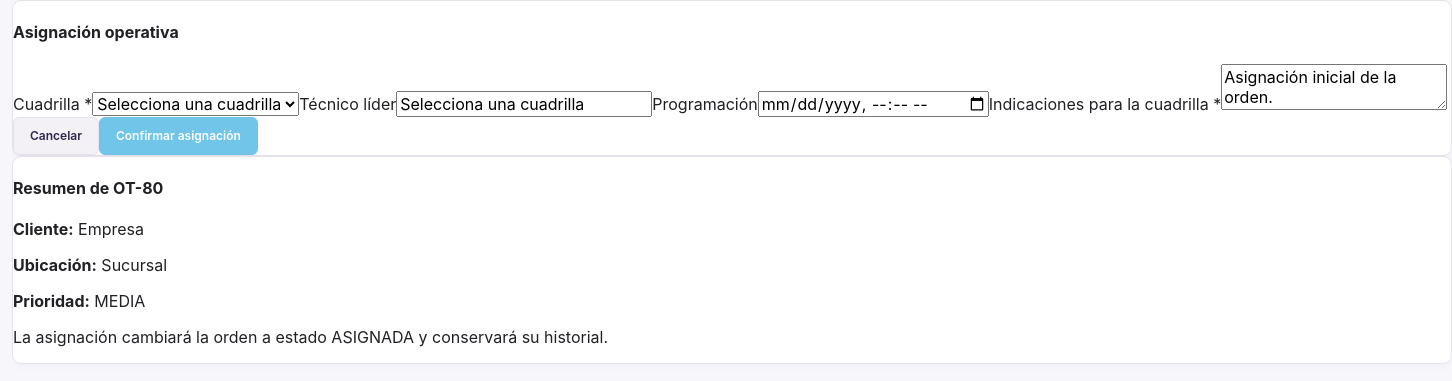
Test: Asignación visual de órdenes según Figma › muestra líder técnico real al seleccionar cuadrilla
The width and height of the screenshot is (1452, 381).
Step 1. Select "Cuadrilla Norte" in the dropdown named "Cuadrilla para asignación" → x=196, y=104, box [92,92,299,116]
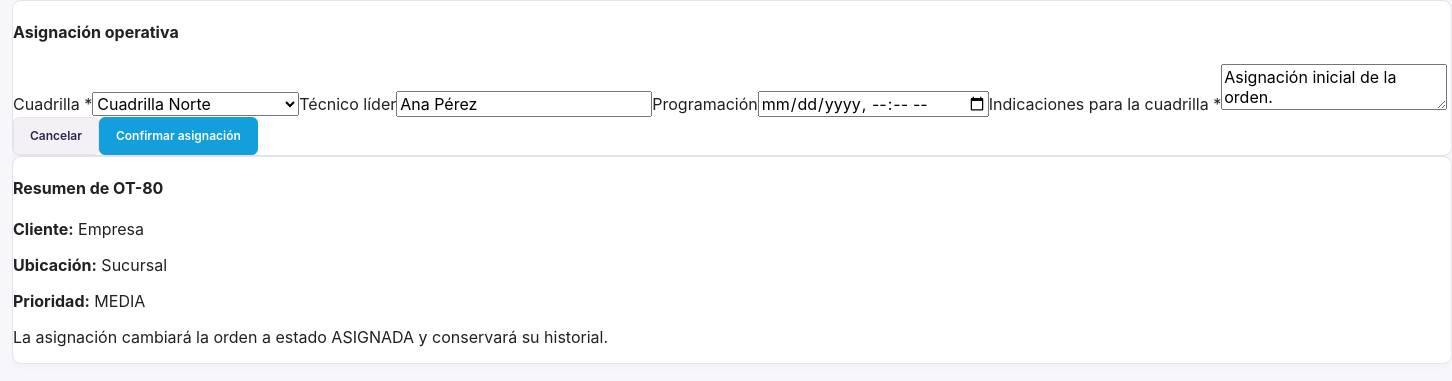
Expected: the field labelled "Técnico líder" holds "Ana Pérez", [396,90,652,116]
